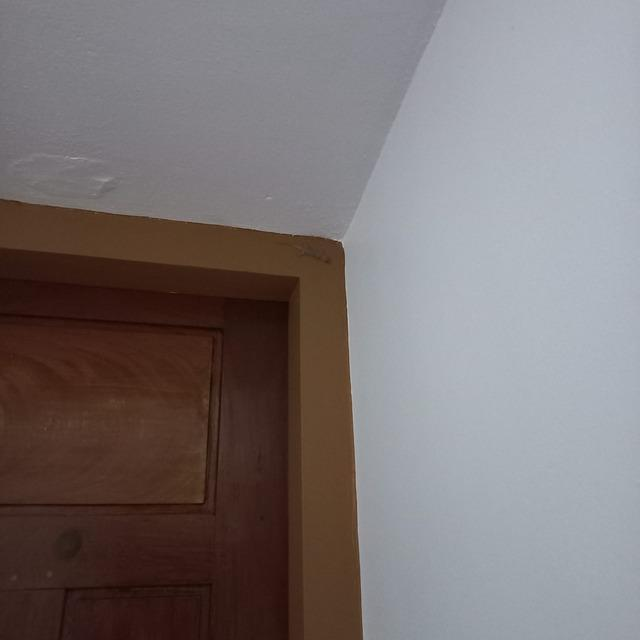lizard: (288, 239, 335, 268)
